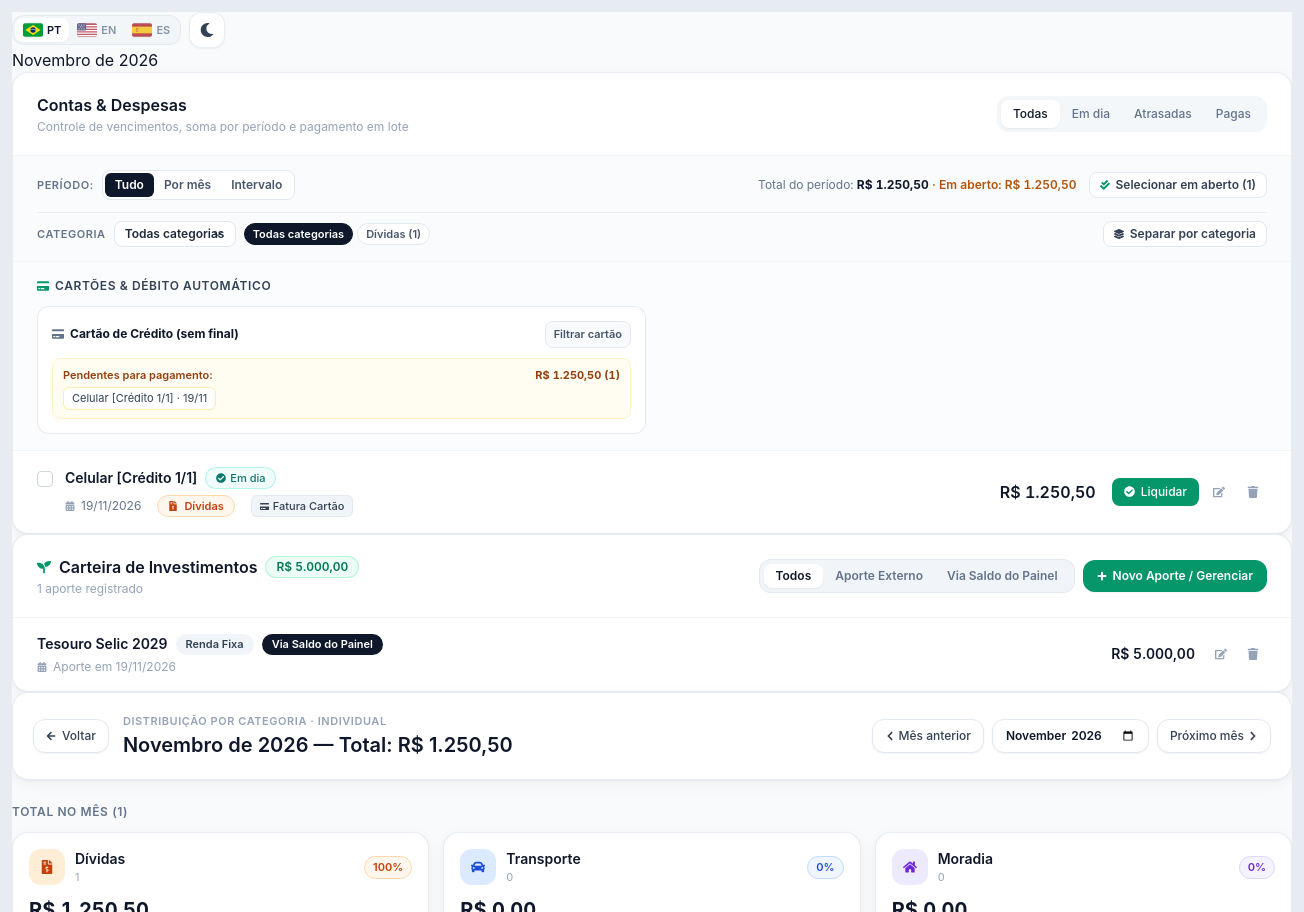
Test: Full i18n & country formatting localization › live-translates debts, investments, months, and country number/date/currency formats
Check: the text "Dívidas" is shown, box [157,495,235,517]
Check: the text "Renda Fixa" is shown, box [176,634,254,654]
Note: Switch live to en-US (USA / USD / MM/DD/YYYY)
Click the button with test id "lang-btn-en-US" at point(97, 30), box [69,18,124,42]
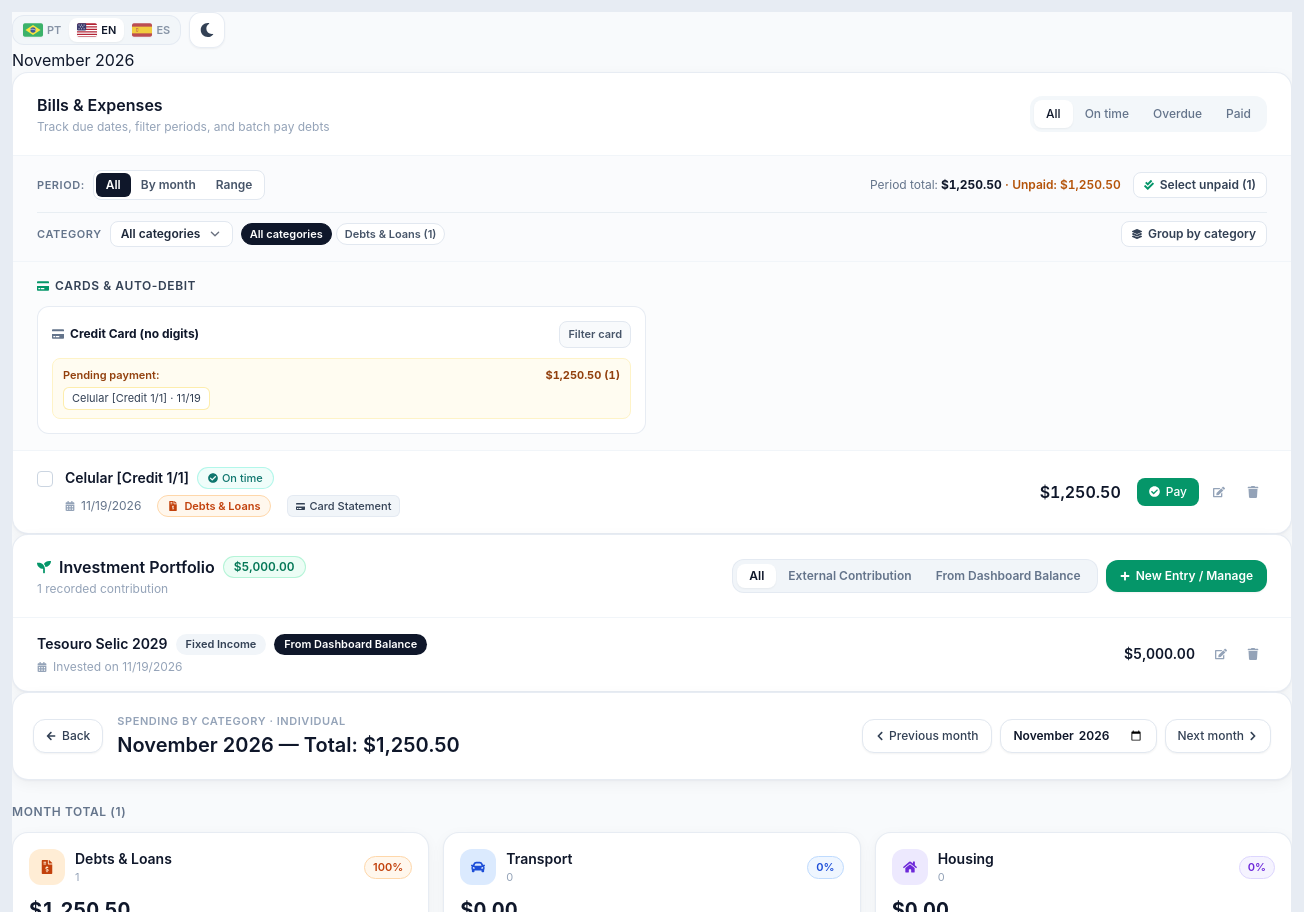
Check: the text "Debts & Loans" is shown, box [157,495,272,517]
Check: the text "Fixed Income" is shown, box [176,634,266,654]
Check: the heading "Celular [Credit 1/1]" is shown, box [65,468,189,488]
Note: Switch live to es-ES (Spain / EUR / DD/MM/YYYY)
Click the button with test id "lang-btn-es-ES" at point(151, 30), box [124,18,178,42]
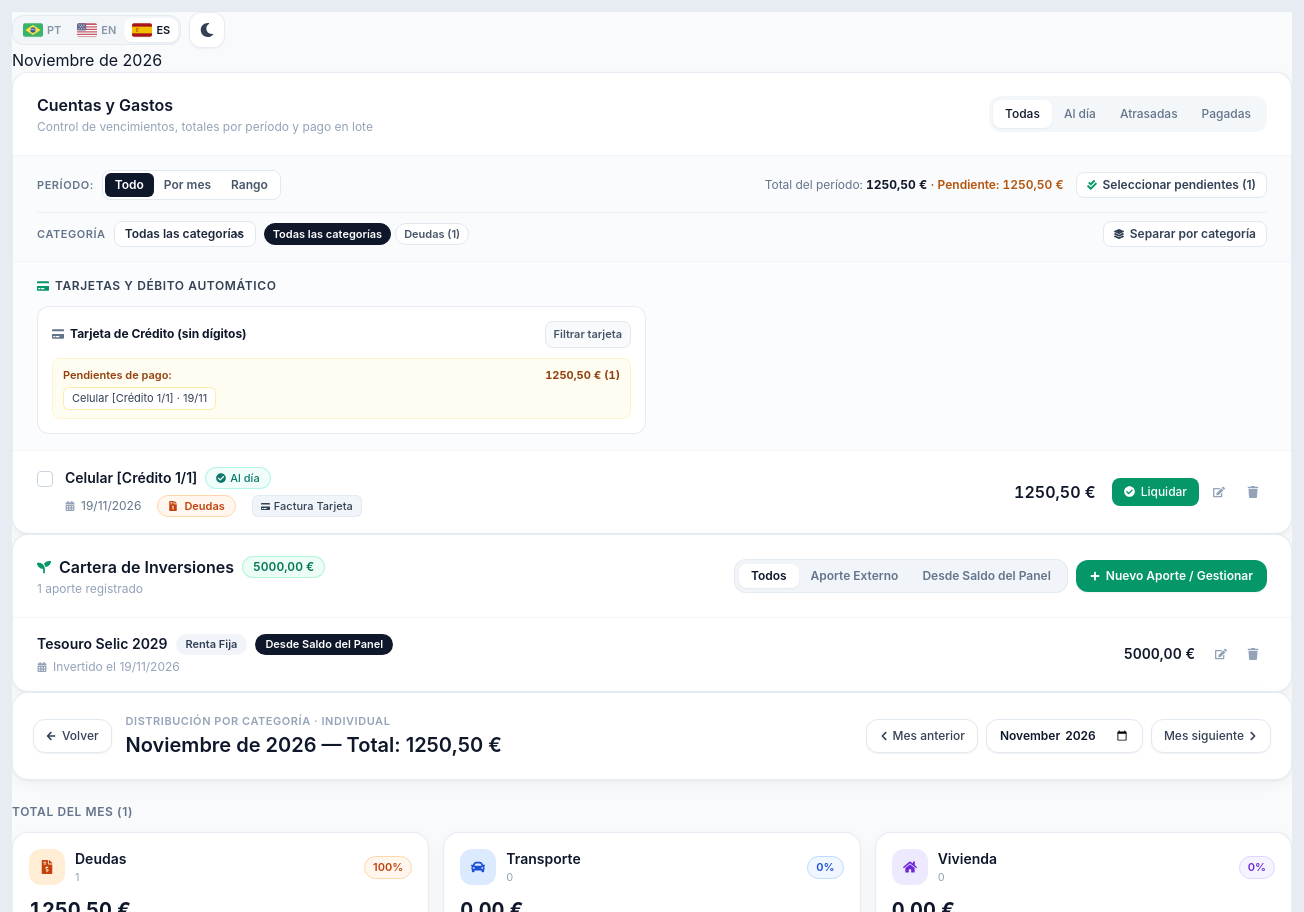
Check: the text "Deudas" is shown, box [157,495,236,517]
Check: the text "Renta Fija" is shown, box [176,634,247,654]
Check: the text "1250,50 €" next to "Total del período:" is shown, box [866,177,927,192]
